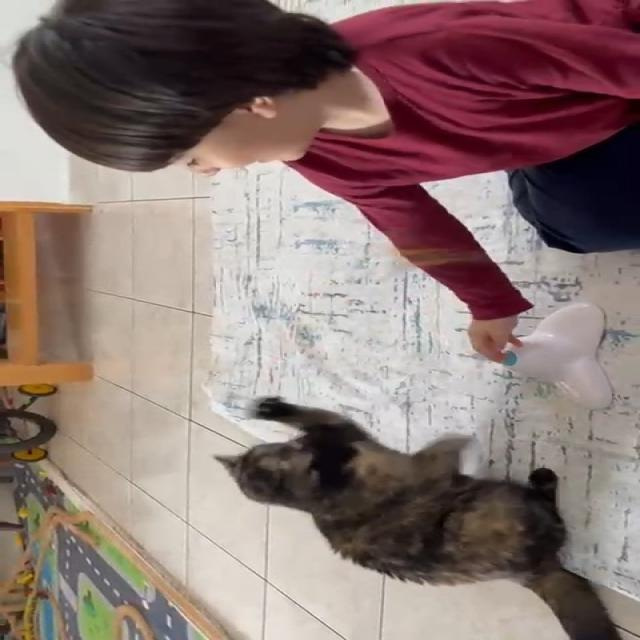authorized: (212, 396, 623, 638)
